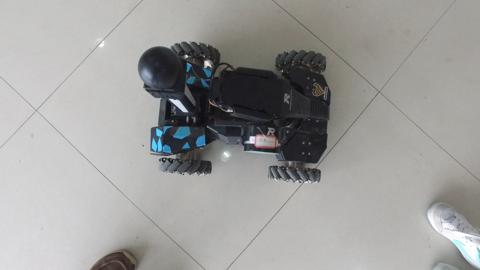chariot: (140, 29, 326, 195)
